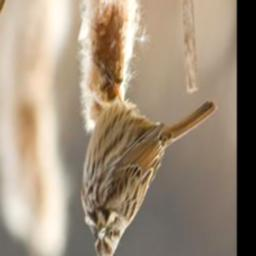Sparrow: (80, 55, 218, 256)
